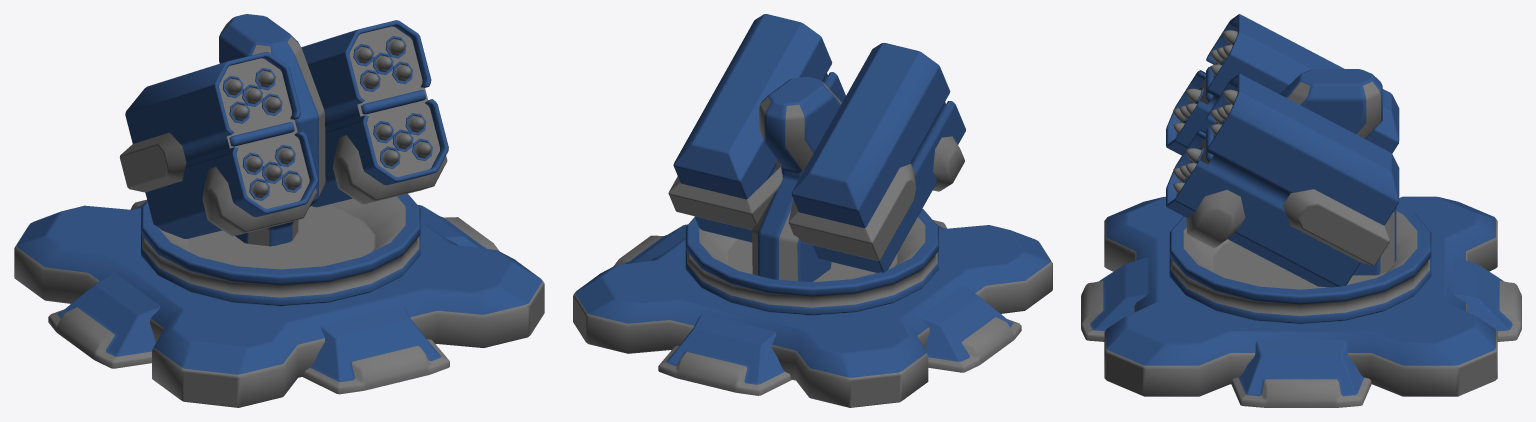
The model's file is Turret_Rocket.FBX.
3 renders of one model, left to right at view 1: azimuth 30°, elevation 25°; view 2: azimuth 150°, elevation 25°; view 3: azimuth 270°, elevation 25°, orthographic. The views are drawn at different scales.
Visible parts, largest first — view 1: Laser_Turret_Base001, Box002, Laser_Turret_Tower007, Box001, Laser_Turret_Leg002, Laser_Turret_Leg001, Laser_Turret_Tower008, Laser_Turret_Leg004; view 2: Laser_Turret_Base001, Box002, Box001, Laser_Turret_Tower007, Laser_Turret_Tower008, Laser_Turret_Leg003, Laser_Turret_Leg001, Laser_Turret_Leg004; view 3: Laser_Turret_Base001, Box001, Laser_Turret_Tower007, Box002, Laser_Turret_Leg004, Laser_Turret_Tower008, Laser_Turret_Leg003, Laser_Turret_Leg002.
Boxes of the visible parts, bbox=[...] form: Laser_Turret_Base001: bbox=[14, 205, 544, 407]; Box002: bbox=[119, 52, 318, 238]; Laser_Turret_Tower007: bbox=[141, 193, 420, 306]; Box001: bbox=[301, 20, 448, 207]; Laser_Turret_Leg002: bbox=[302, 304, 449, 394]; Laser_Turret_Leg001: bbox=[48, 272, 160, 368]; Laser_Turret_Tower008: bbox=[219, 14, 325, 246]; Laser_Turret_Leg004: bbox=[417, 204, 499, 251]; Laser_Turret_Base001: bbox=[573, 225, 1052, 407]; Box002: bbox=[788, 42, 965, 272]; Box001: bbox=[668, 14, 845, 242]; Laser_Turret_Tower007: bbox=[685, 209, 938, 315]; Laser_Turret_Tower008: bbox=[752, 76, 841, 282]; Laser_Turret_Leg003: bbox=[658, 313, 791, 395]; Laser_Turret_Leg001: bbox=[920, 285, 1021, 372]; Laser_Turret_Leg004: bbox=[613, 224, 687, 266]; Laser_Turret_Base001: bbox=[1104, 196, 1497, 396]; Box001: bbox=[1166, 73, 1399, 287]; Laser_Turret_Tower007: bbox=[1169, 205, 1431, 324]; Box002: bbox=[1166, 14, 1399, 155]; Laser_Turret_Leg004: bbox=[1231, 339, 1371, 407]; Laser_Turret_Tower008: bbox=[1279, 69, 1396, 275]; Laser_Turret_Leg003: bbox=[1453, 256, 1521, 341]; Laser_Turret_Leg002: bbox=[1081, 257, 1148, 341].
Size of the model in its own units: 133 by 86.96 by 133.
